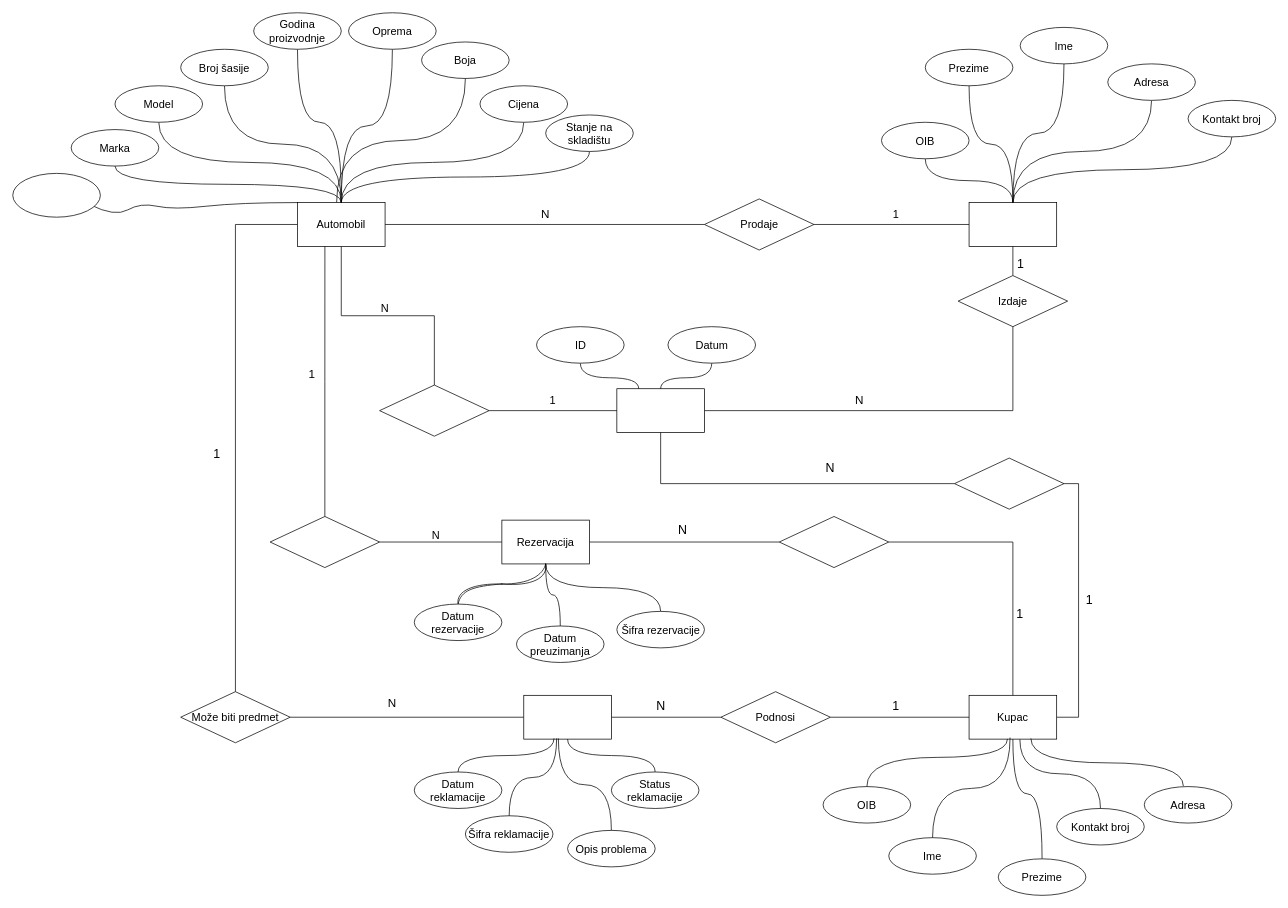
This 1288x908 diagram has some shape labels left out. Here are the shapes that lost their labels. From the top down, the box of each, then its label:
(12, 173, 100, 217): Datum dolaska
(968, 202, 1057, 246): Zaposlenik
(379, 384, 489, 436): Sadrži
(616, 388, 704, 433): Račun
(954, 457, 1064, 509): Traži
(269, 516, 380, 568): Ima
(779, 516, 889, 568): Zatraži
(523, 695, 611, 739): Reklamacija
